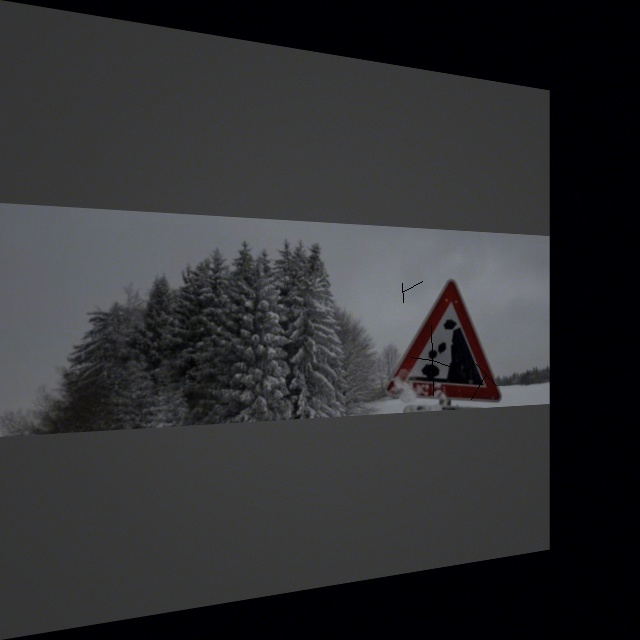Falling_Rocks: (392, 276, 500, 408)
